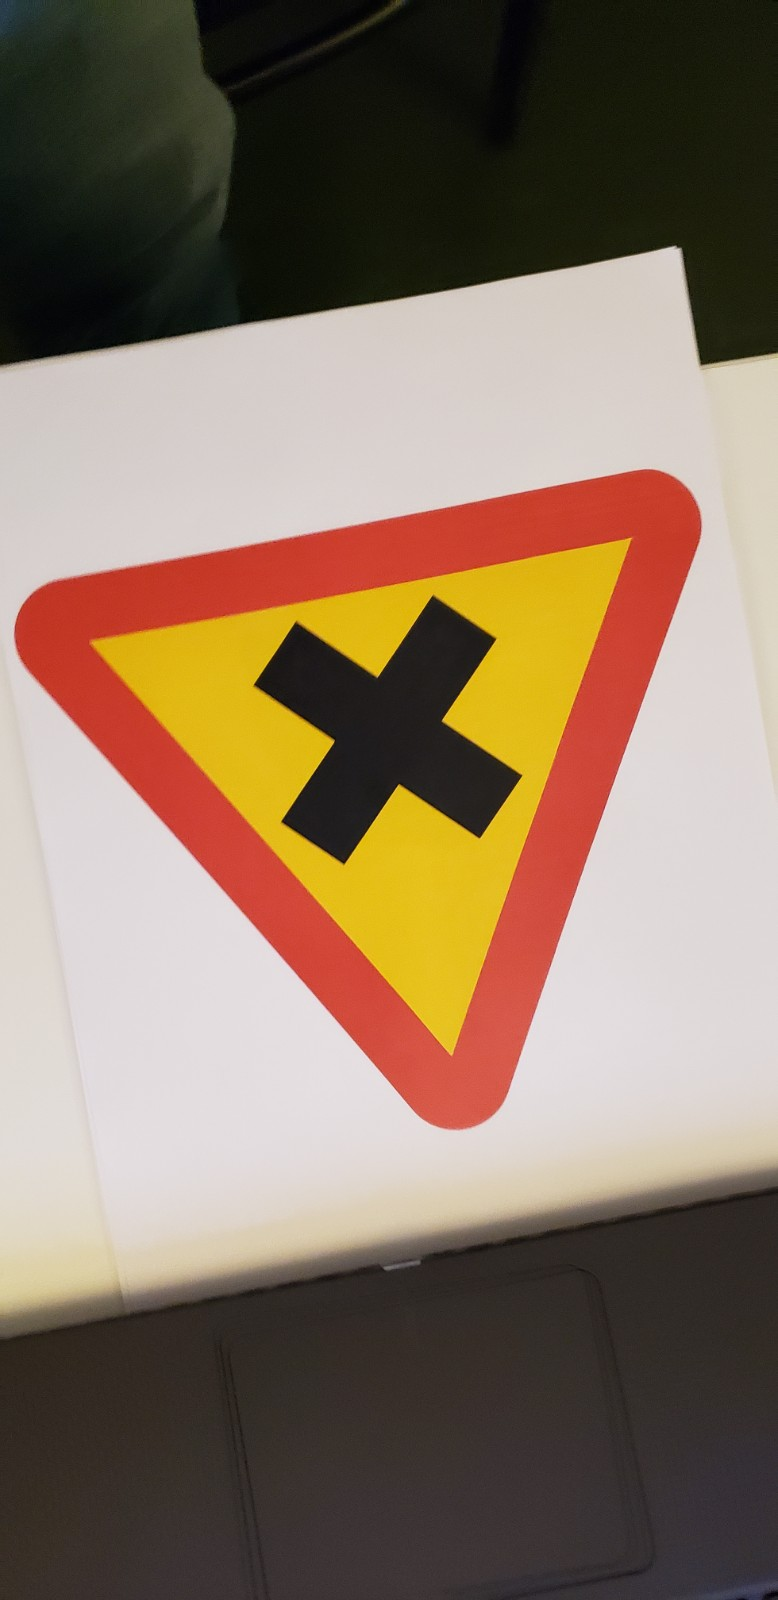junction: (4, 430, 778, 1186)
